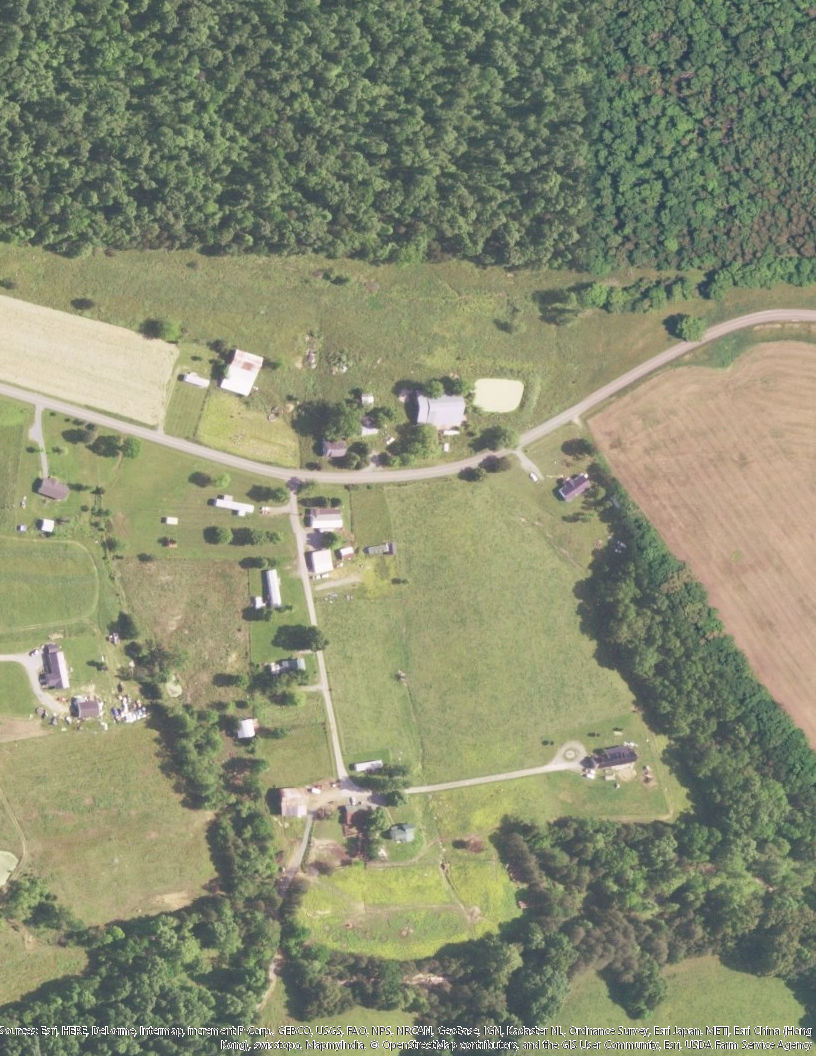cafo: (403, 381, 478, 437), (209, 346, 267, 399)
